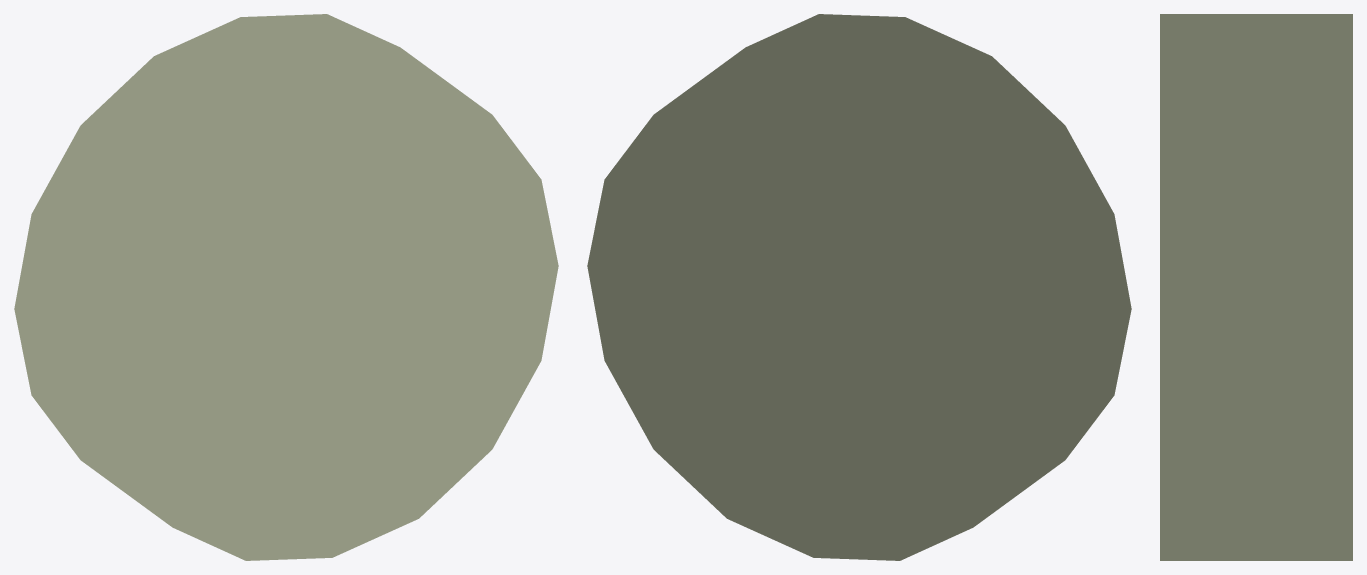
The model's file is round_tin_base.dae.
3 renders of one model, left to right at view 1: azimuth 30°, elevation 25°; view 2: azimuth 150°, elevation 25°; view 3: azimuth 270°, elevation 25°, orthographic. The views are drawn at different scales.
Visible parts, largest first — view 1: Cylinder1-0; view 2: Cylinder1-0; view 3: Cylinder1-0.
Part boxes in pixels (bbox=[...]): Cylinder1-0: bbox=[14, 14, 558, 560]; Cylinder1-0: bbox=[587, 14, 1131, 560]; Cylinder1-0: bbox=[1160, 14, 1352, 560].
Size of the model in its own units: 0.08 by 0.08 by 0.0282.
